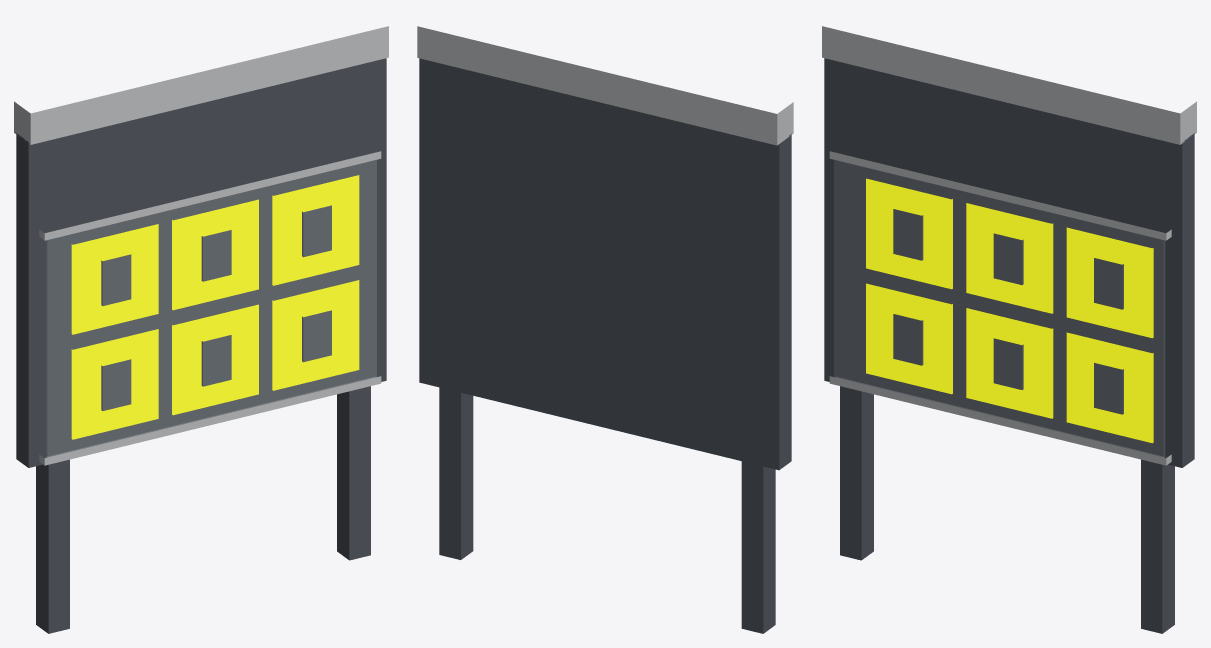
File: ext_notice_board_02.glb
The picture shows the model from 3 angles, left to right: view 1: azimuth 30°, elevation 25°; view 2: azimuth 150°, elevation 25°; view 3: azimuth 330°, elevation 25°; orthographic projection.
Parts seen in each view (by area): view 1: Glass_Cover, Board, Tiles, Header, Legs, Tile_Glyphs, Bezel; view 2: Board, Header, Legs; view 3: Glass_Cover, Board, Tiles, Header, Legs, Tile_Glyphs, Bezel.
Part boxes in pixels (bbox=[...]): Glass_Cover: bbox=[46, 160, 376, 457]; Board: bbox=[16, 58, 386, 467]; Tiles: bbox=[71, 175, 359, 439]; Header: bbox=[14, 26, 388, 144]; Legs: bbox=[36, 386, 370, 633]; Tile_Glyphs: bbox=[101, 205, 331, 410]; Bezel: bbox=[39, 151, 381, 465]; Board: bbox=[419, 58, 791, 470]; Header: bbox=[417, 26, 793, 145]; Legs: bbox=[439, 387, 775, 633]; Glass_Cover: bbox=[834, 160, 1164, 457]; Board: bbox=[824, 58, 1194, 467]; Tiles: bbox=[866, 178, 1153, 443]; Header: bbox=[822, 26, 1196, 144]; Legs: bbox=[840, 386, 1174, 633]; Tile_Glyphs: bbox=[893, 209, 1123, 414]; Bezel: bbox=[829, 151, 1171, 465].
Bounding box in the file's own units: 1 × 1.4 × 0.096.
